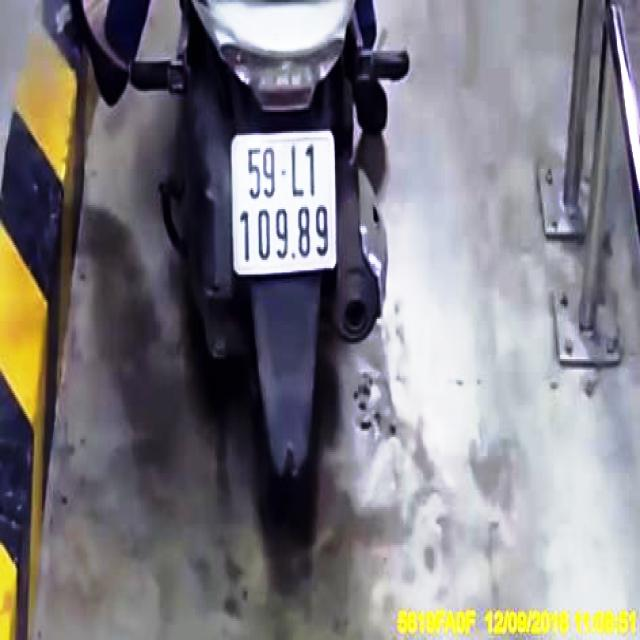license_plate: (235, 135, 337, 275)
